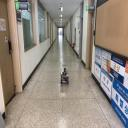cart: (60, 72, 69, 84)
